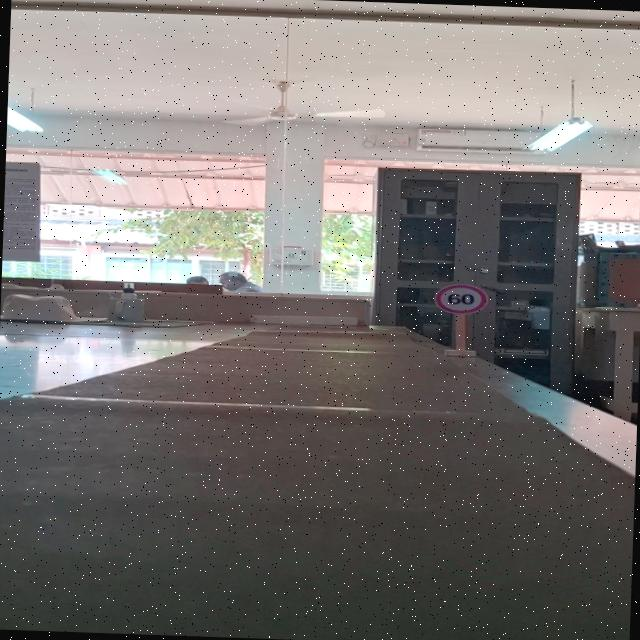Speed60: (433, 282, 490, 316)
